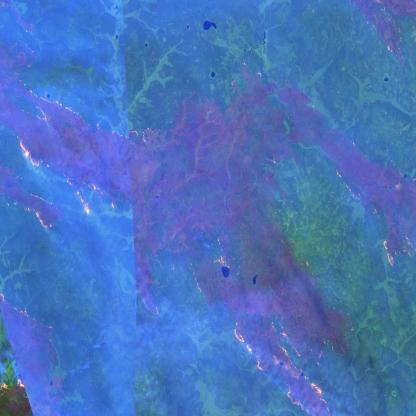fire: (0, 77, 96, 235), (230, 310, 343, 416), (377, 232, 416, 274)
